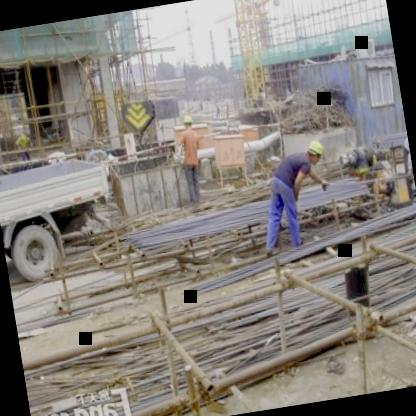helmet: (302, 138, 328, 164), (180, 111, 196, 131)
